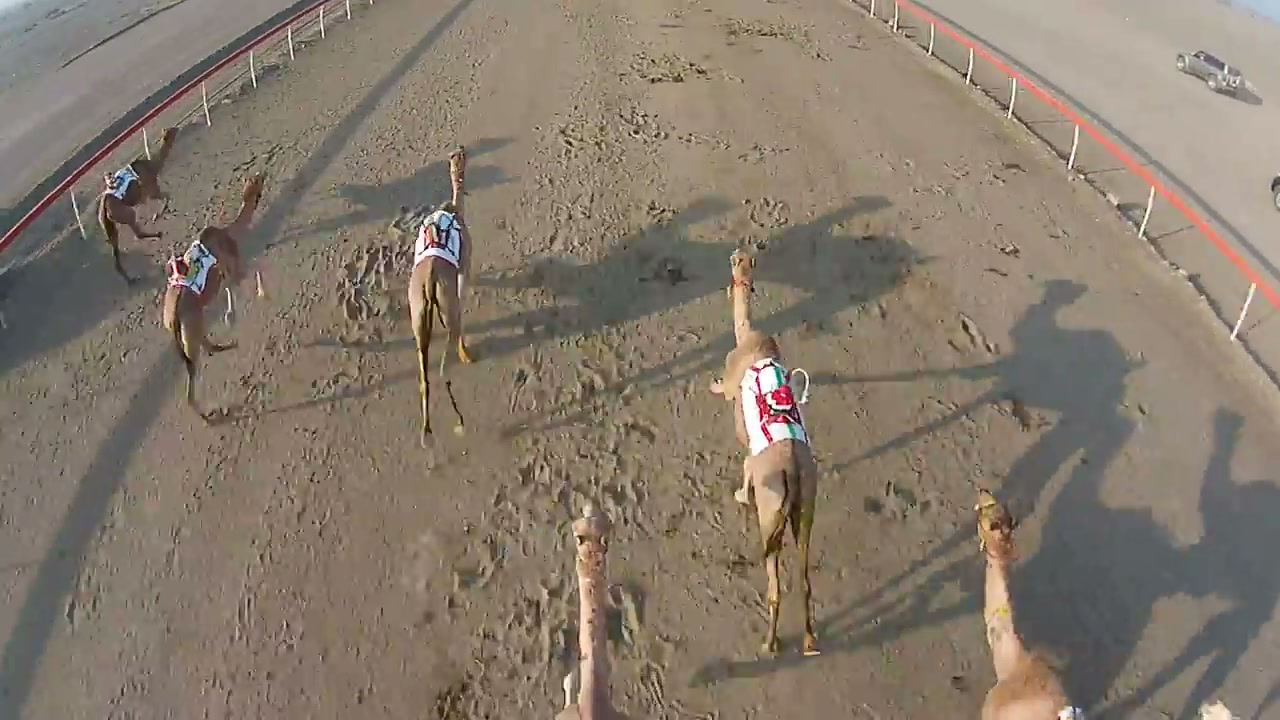animal_footprint: (220, 440, 466, 718), (89, 380, 268, 709)
